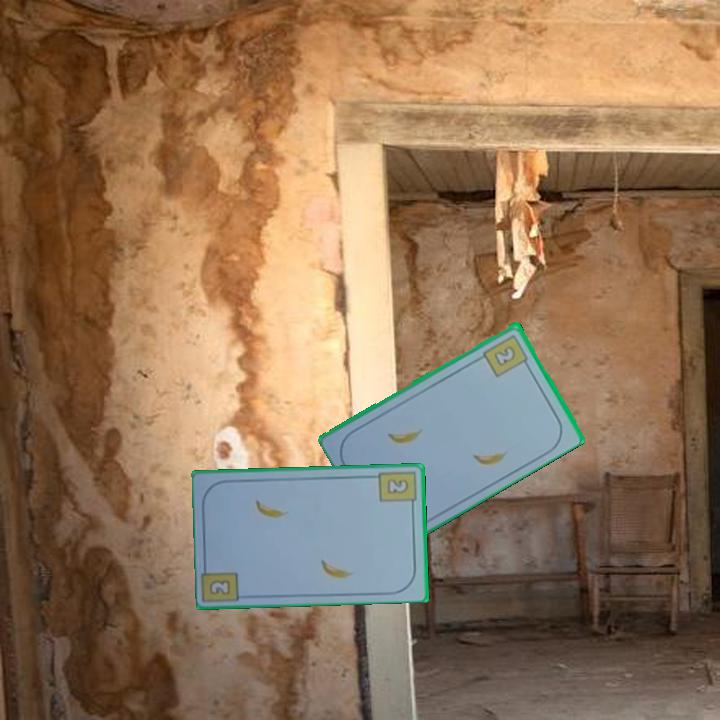2b: (480, 330, 532, 380), (375, 467, 418, 512), (205, 576, 234, 598)
